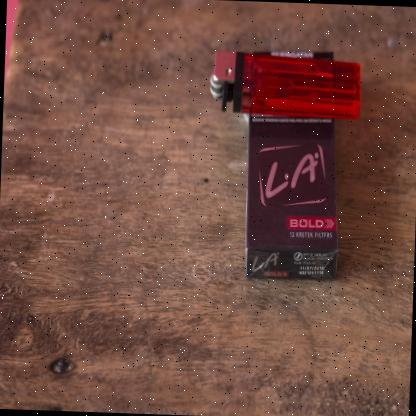bungkus rokok: (235, 104, 350, 284)
